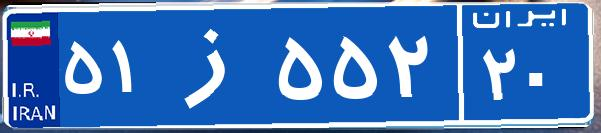0: (525, 38, 570, 115)
1: (110, 28, 158, 105)
2: (385, 28, 445, 110), (475, 38, 525, 113)
5: (273, 28, 330, 110), (330, 28, 385, 110), (57, 26, 110, 107)
ز: (158, 15, 273, 115)
